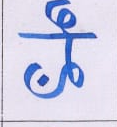au_matra: (53, 0, 91, 88)
